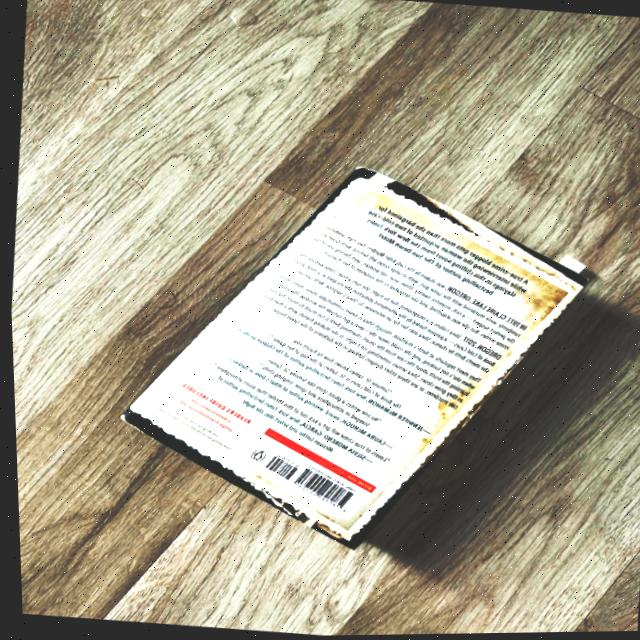Book: (119, 167, 584, 557)
